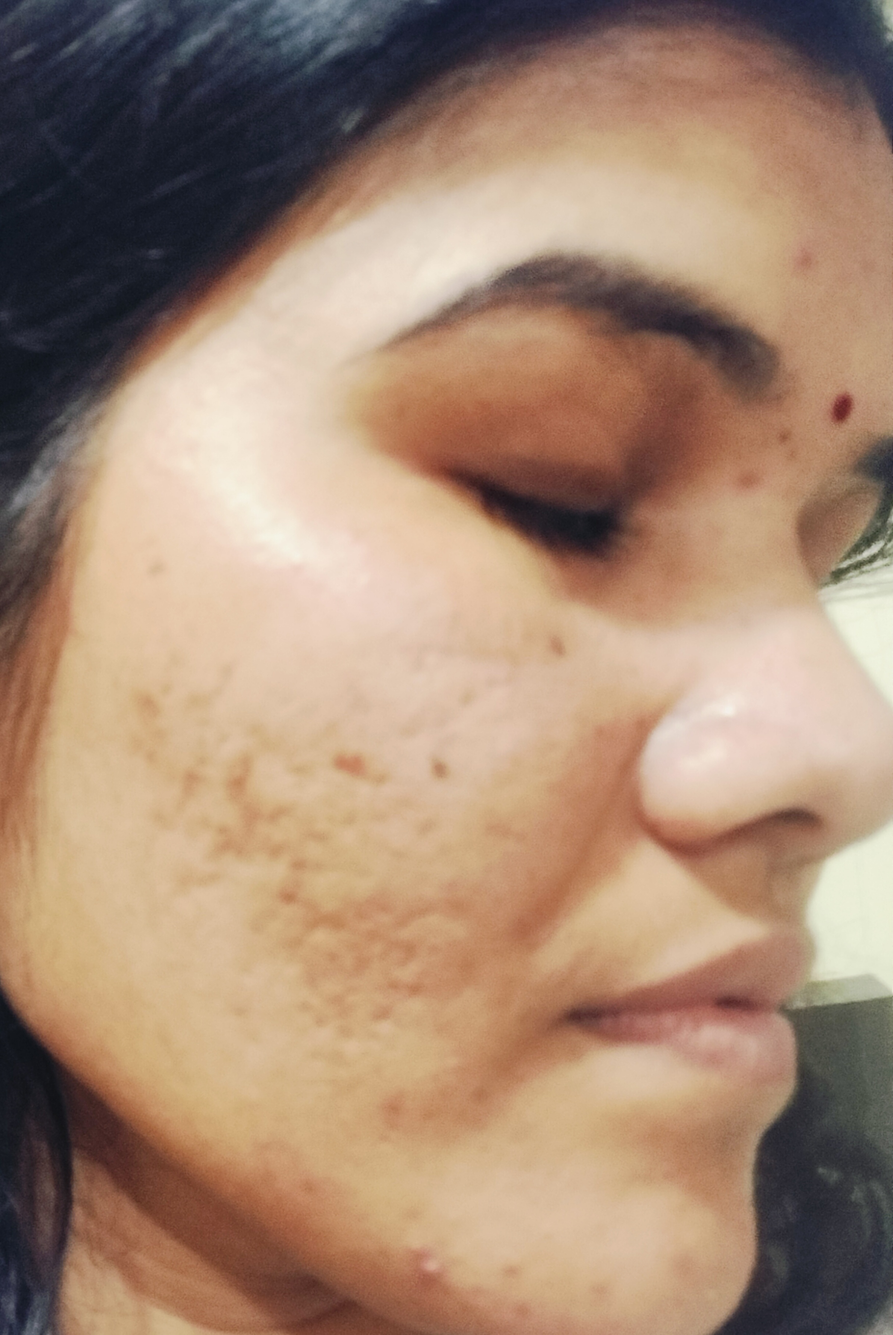papule: (724, 456, 797, 520)
pustule: (387, 1220, 444, 1291)
